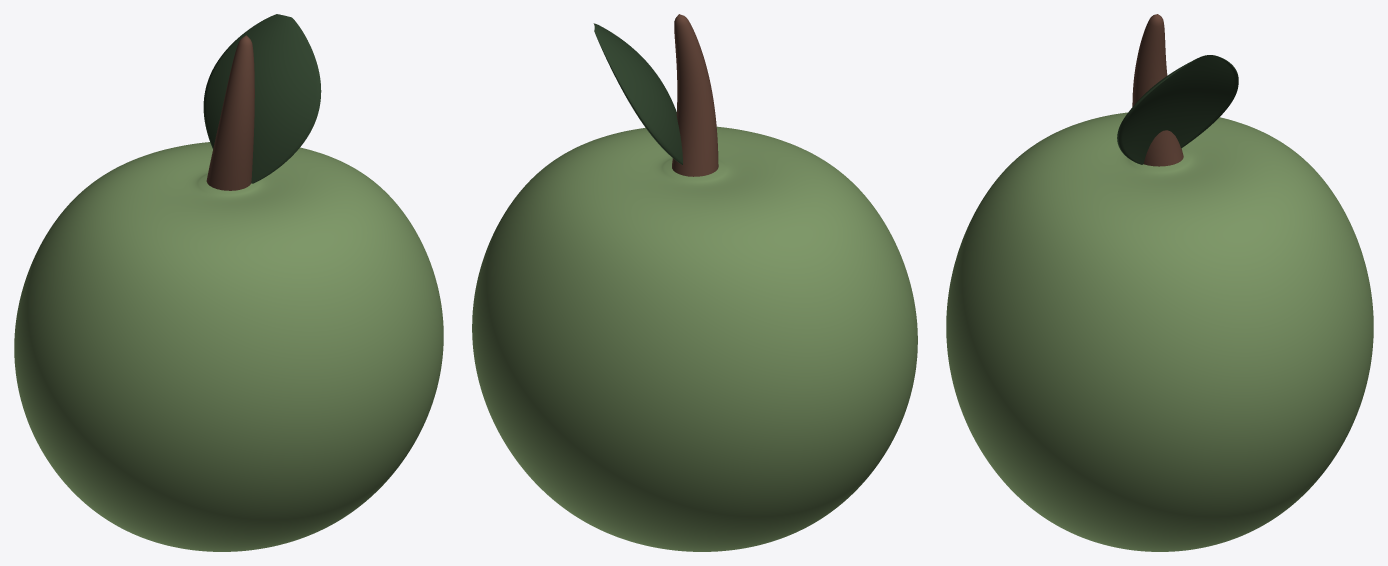
File: apple_whole_smooth.glb
The picture shows the model from 3 angles, left to right: view 1: azimuth 30°, elevation 25°; view 2: azimuth 150°, elevation 25°; view 3: azimuth 270°, elevation 25°; orthographic projection. The views are drawn at different scales.
Visible parts, largest first — view 1: Skin, Leaf, Stem; view 2: Skin, Stem, Leaf; view 3: Skin, Leaf, Stem.
Part boxes in pixels (box(x1,y1,x2,y2)): Skin: box(14, 142, 443, 551); Leaf: box(203, 14, 321, 183); Stem: box(206, 35, 254, 190); Skin: box(472, 126, 917, 551); Stem: box(672, 14, 718, 176); Leaf: box(593, 23, 682, 164); Skin: box(946, 112, 1373, 551); Leaf: box(1117, 55, 1238, 164); Stem: box(1132, 14, 1183, 166).
Bounding box in the file's own units: 1.11 × 1.38 × 1.03.
